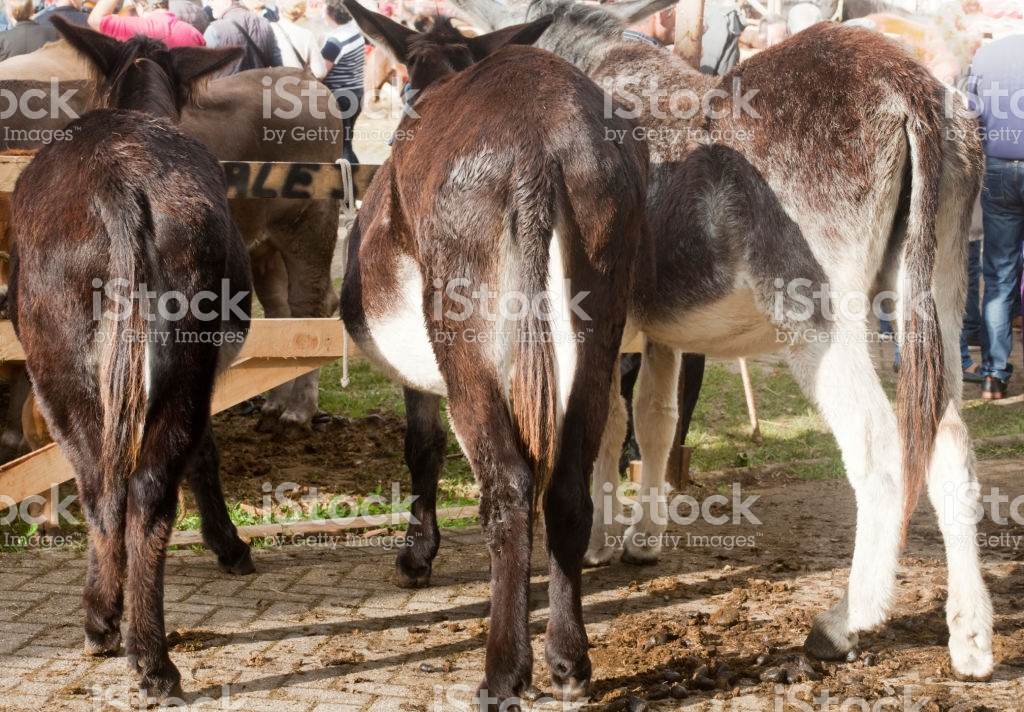donkey: (469, 1, 1006, 701), (340, 1, 647, 706), (8, 23, 245, 703)
